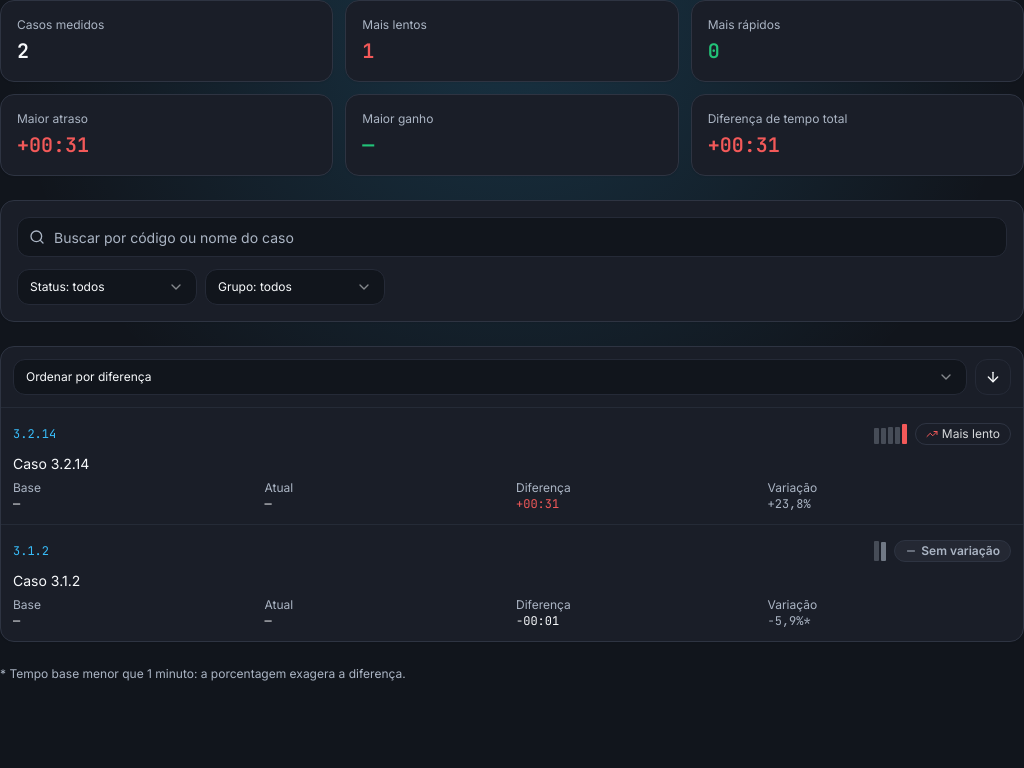
Test: aba Performance com tempos no banco › de outro modulo, nao oferece a troca
The image size is (1024, 768).
Click the button named "Ver histórico do caso 3.2.14" at (35, 434), box [13,412,56,456]
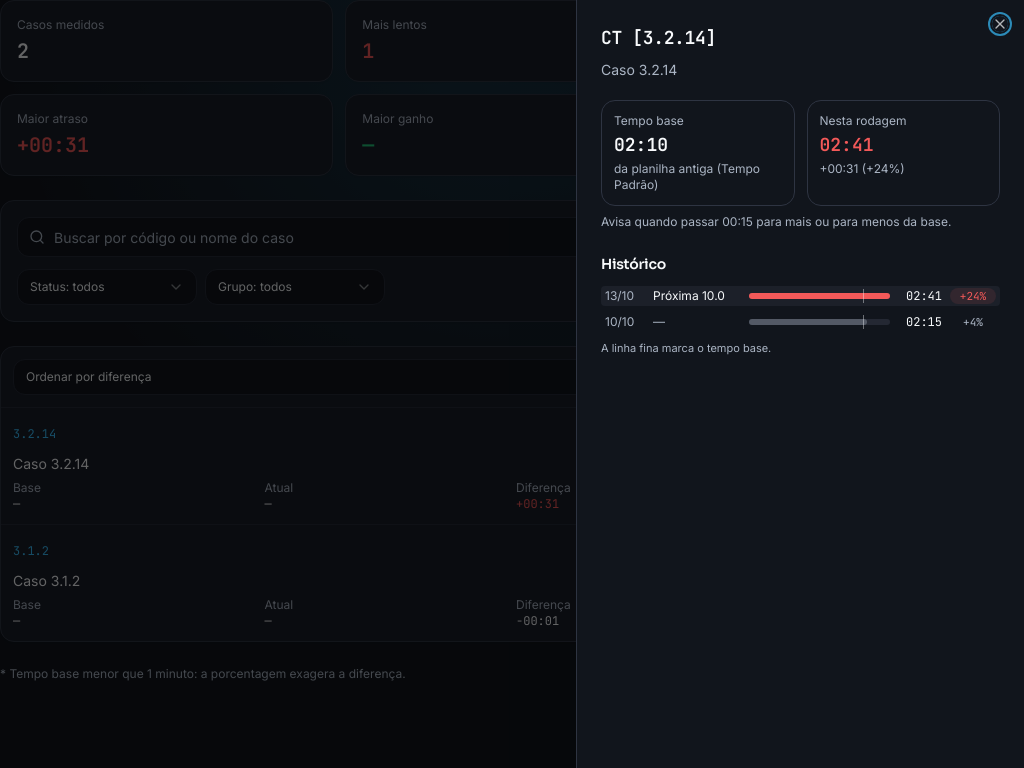
Expected: the heading "CT [3.2.14]" is shown, [601,26,716,49]
